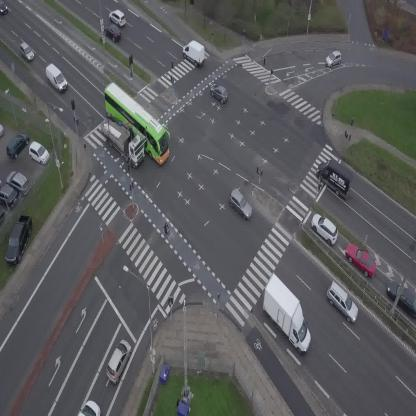bicycle: (161, 222, 172, 241)
bus: (92, 79, 181, 167)
car: (320, 280, 365, 325), (340, 238, 382, 281), (101, 337, 136, 385), (306, 210, 343, 247), (224, 188, 258, 221), (206, 80, 232, 105), (100, 21, 124, 46), (106, 6, 130, 29), (15, 41, 36, 64), (322, 49, 345, 69), (78, 400, 100, 416)
lorry: (248, 271, 328, 357), (91, 107, 153, 168), (311, 156, 360, 201), (178, 37, 211, 68), (41, 62, 71, 93)
